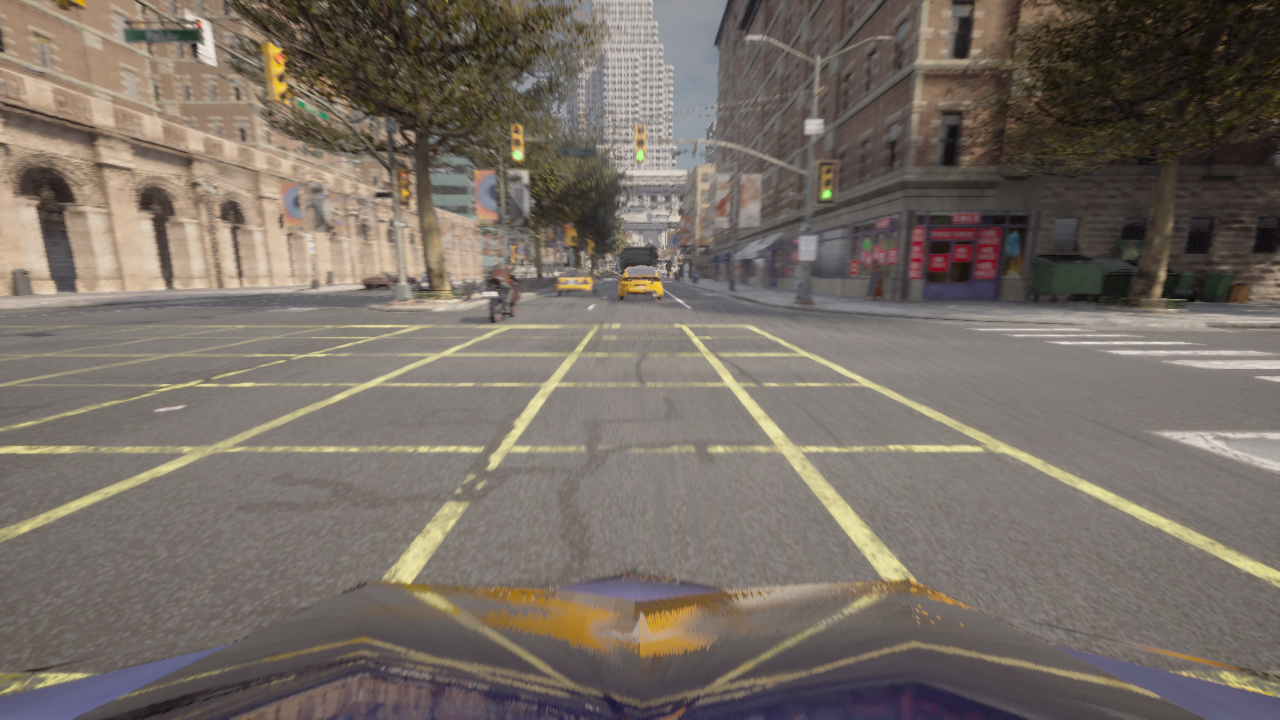cyclist: (0, 569, 1279, 719), (482, 274, 523, 324), (618, 267, 661, 300), (555, 266, 596, 296), (619, 246, 656, 274), (362, 272, 416, 290), (601, 266, 618, 283)
